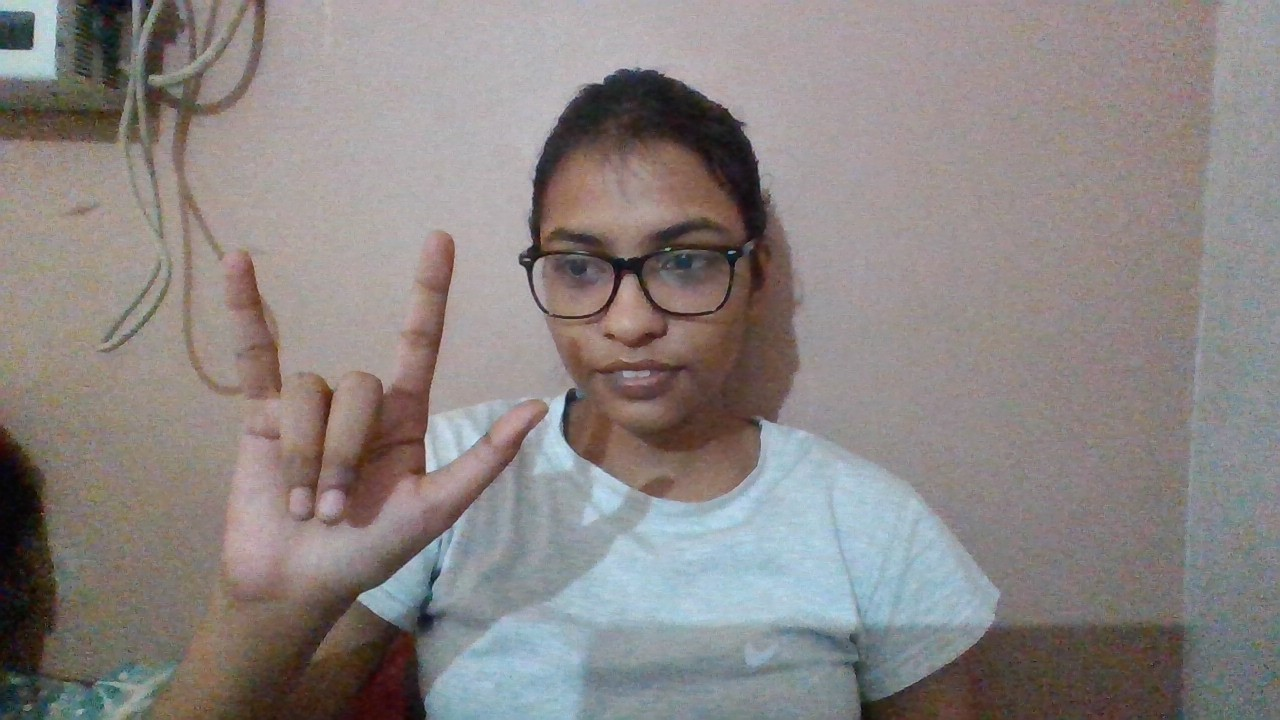I Love You: (182, 203, 561, 649)
